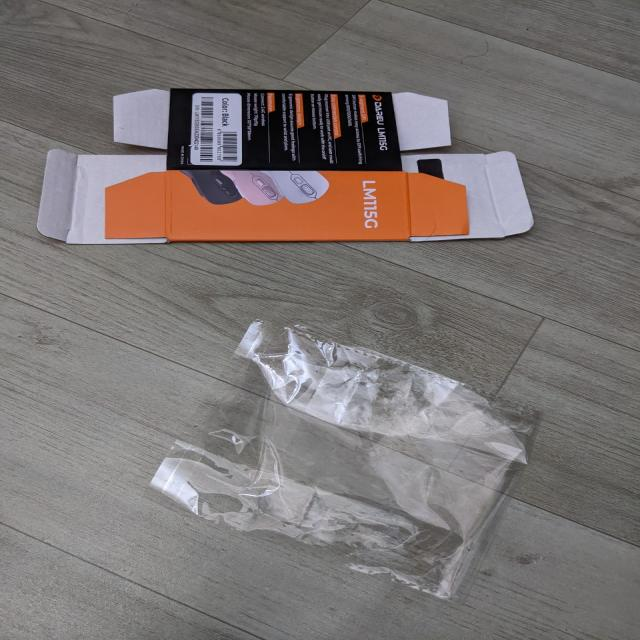bag: (150, 319, 541, 602)
cardboard box: (35, 87, 535, 245)
